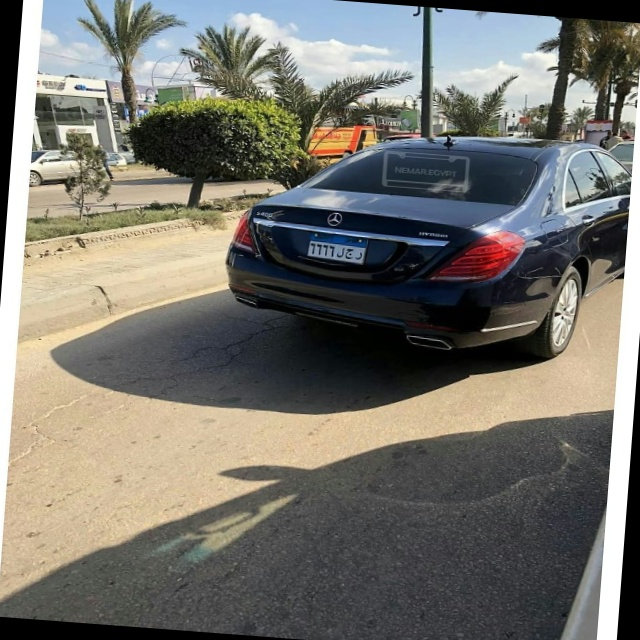License Plate: (304, 230, 370, 266)
